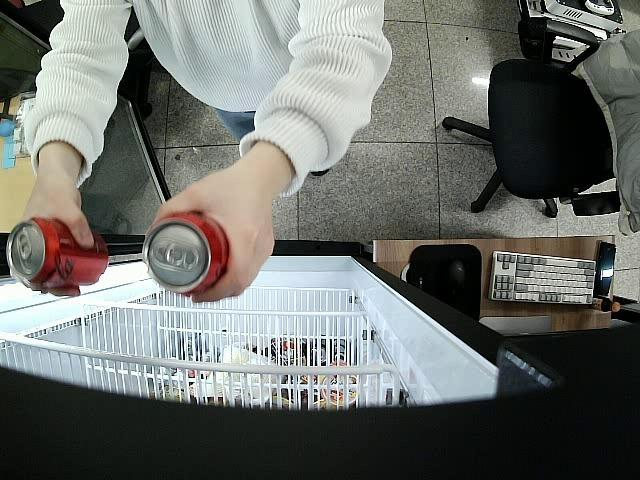11_cocaColaZero: (140, 210, 228, 296), (8, 218, 108, 288)
